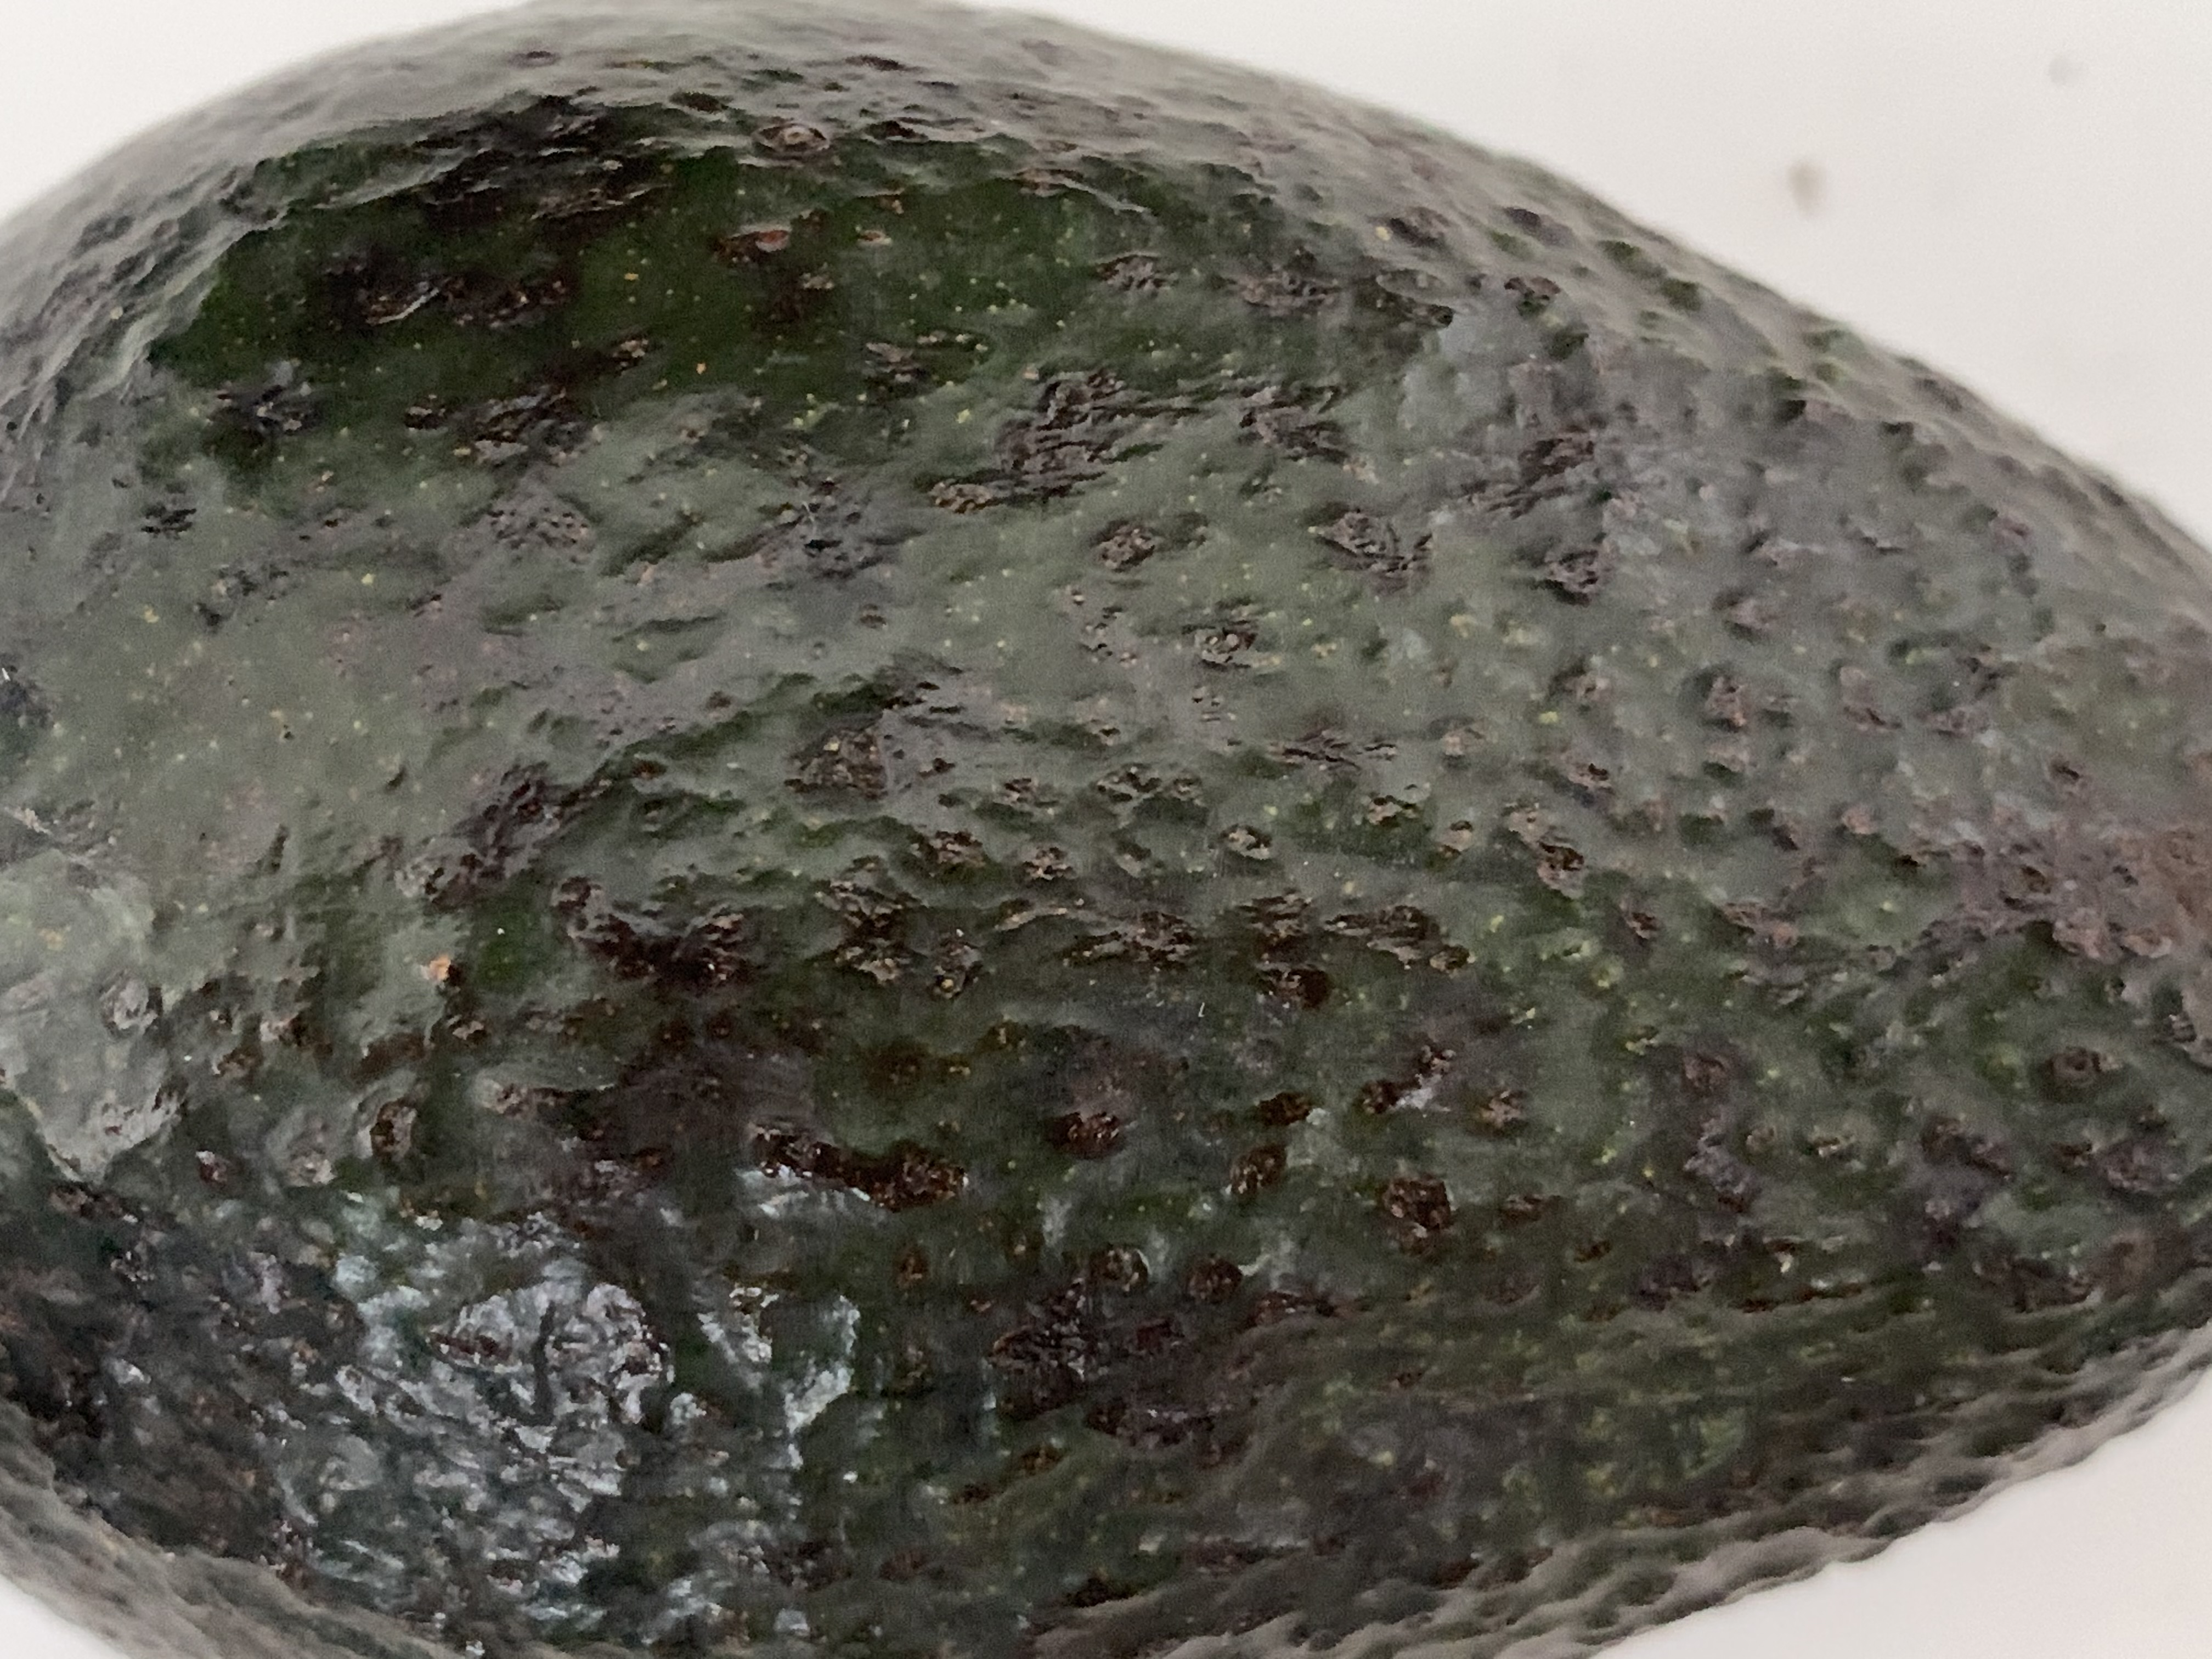avocado: (28, 23, 2212, 1633)
